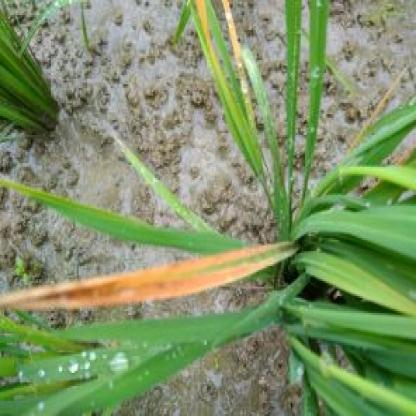Tungro: (9, 235, 283, 311)
